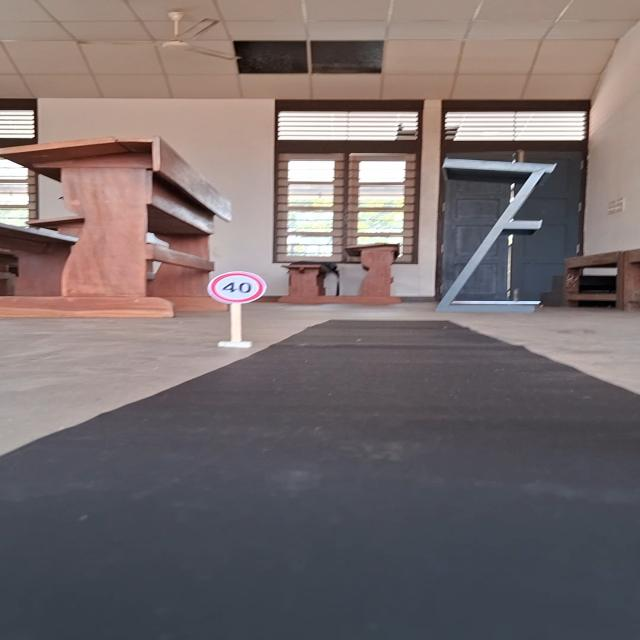Speed40: (205, 270, 267, 305)
